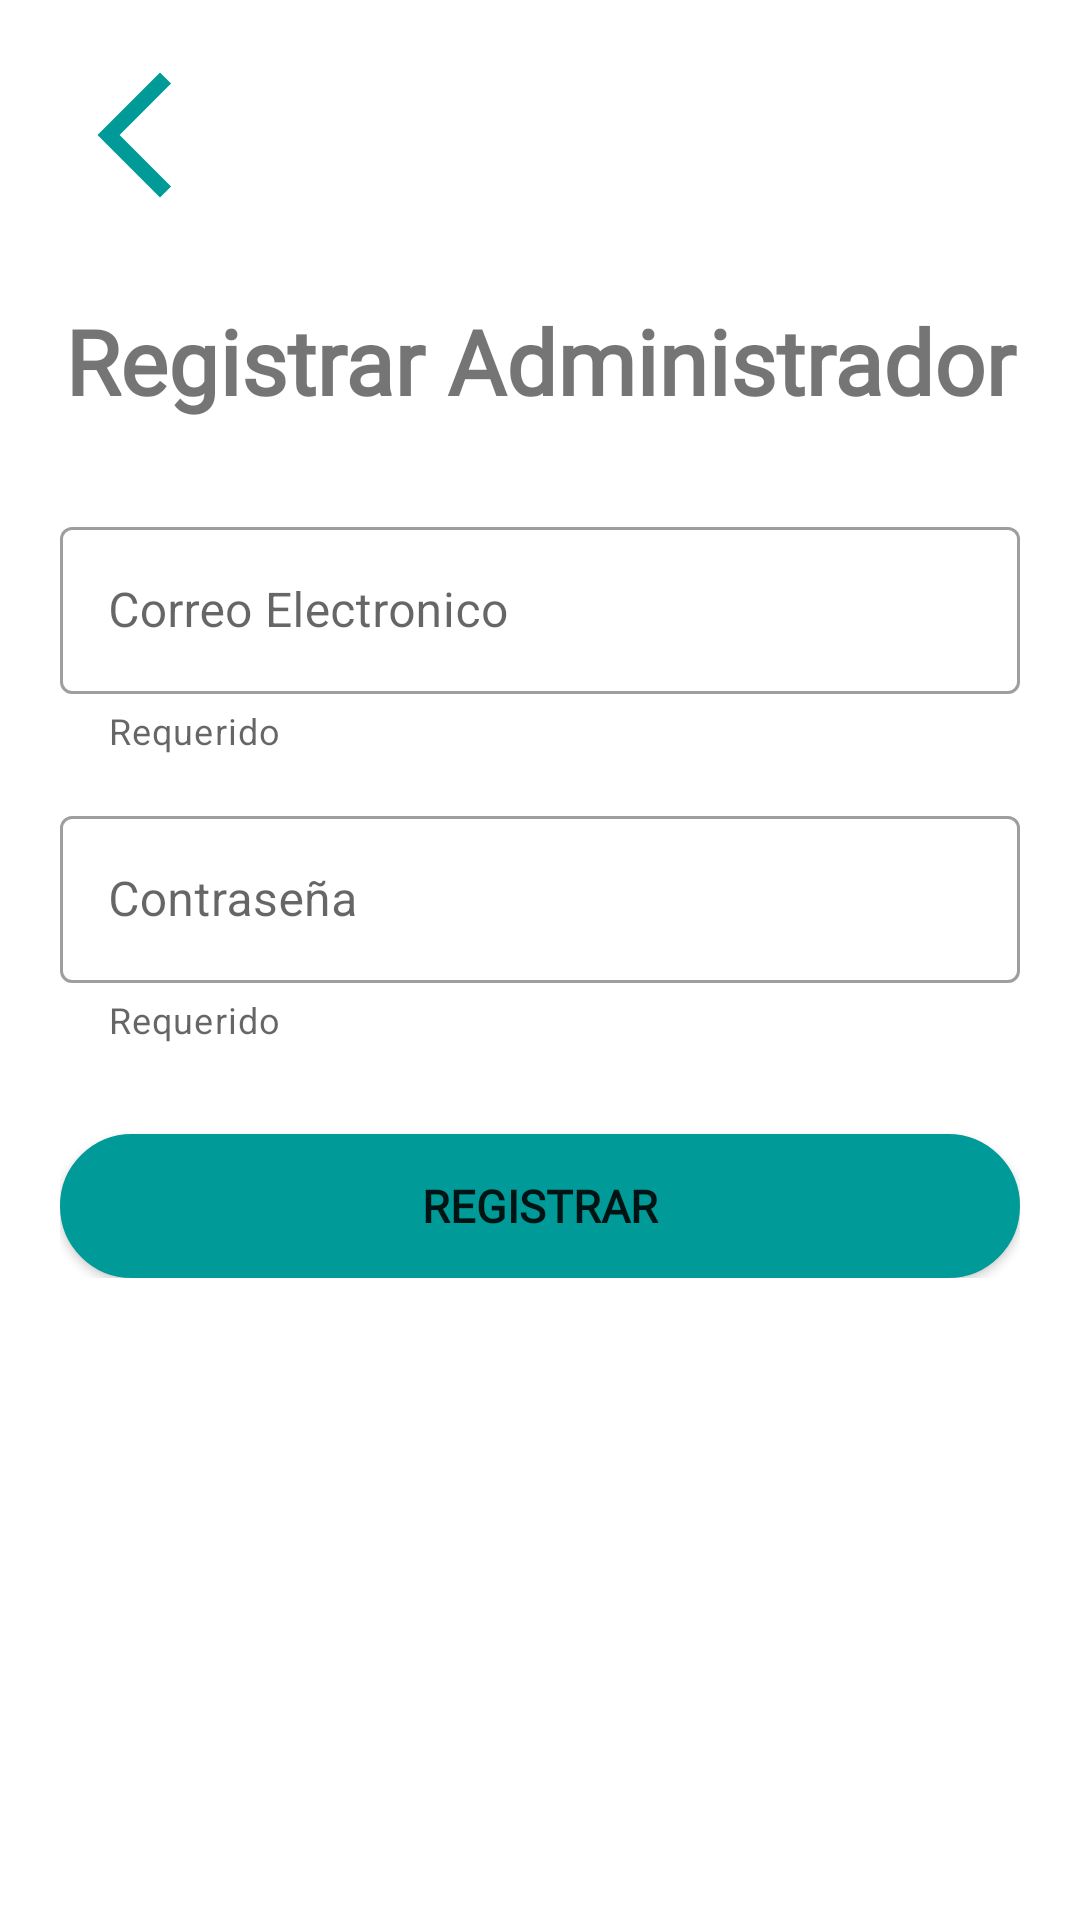

Icons on this 1080×1920 Android screen, each with its box as [x1,y1,x2,y2]:
arrow back: [97,72,171,198]
